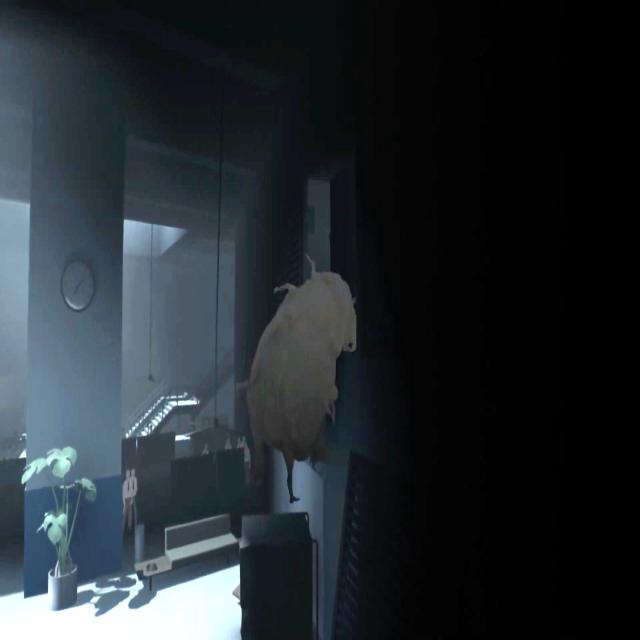blob: (235, 257, 357, 505)
human: (130, 469, 137, 530), (244, 437, 251, 490), (124, 469, 129, 531)
